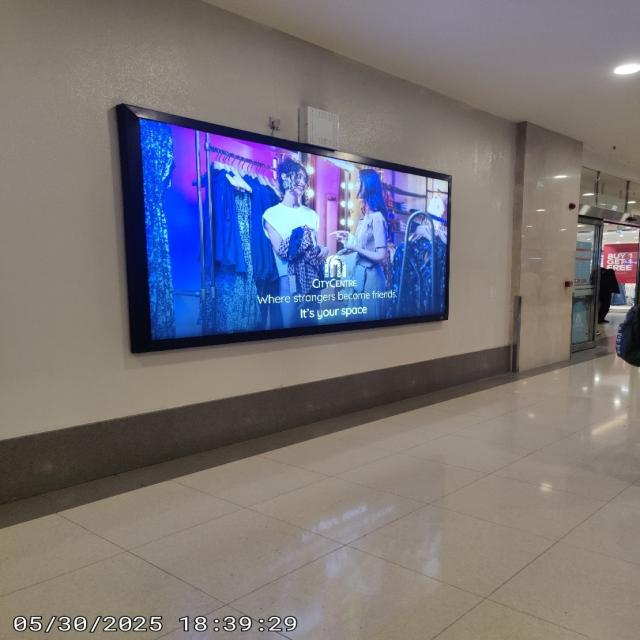digital-board-medium: (120, 100, 453, 353)
